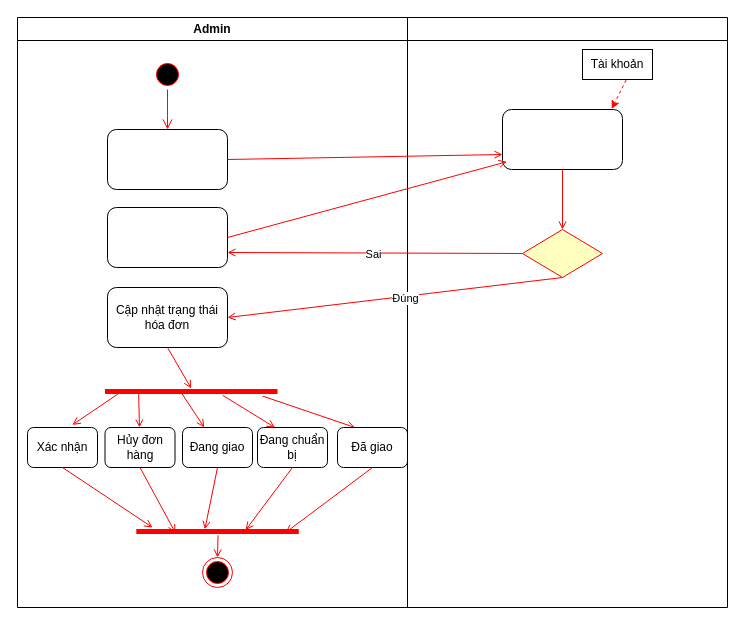
This 745x625 diagram has some shape labels left out. Here are the shapes that lost their labels. From the top down, the box of each, then its label:
(106, 128, 228, 190): Chọn chức năng quản lý hóa đơn
(502, 108, 622, 170): Kiểm tra đăng nhập
(106, 206, 228, 268): Yêu cầu đăng nhập
(406, 16, 728, 608): Hệ thống
